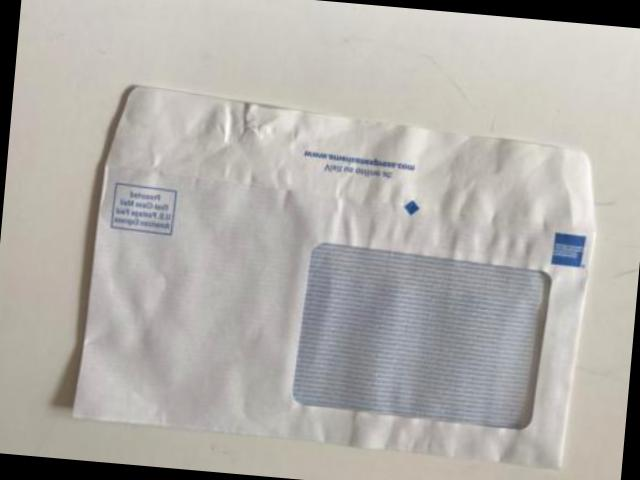cardboard paper: (76, 84, 595, 463)
